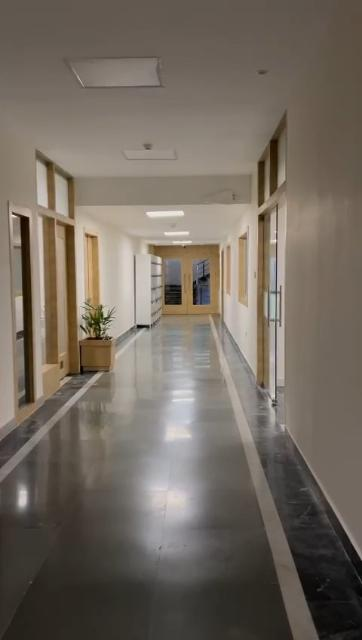door: (254, 155, 290, 417), (37, 207, 77, 383), (164, 242, 218, 322)
floor: (0, 315, 362, 640)
object: (80, 293, 112, 381)
wall: (296, 99, 362, 449), (0, 119, 38, 200), (107, 228, 135, 332)
